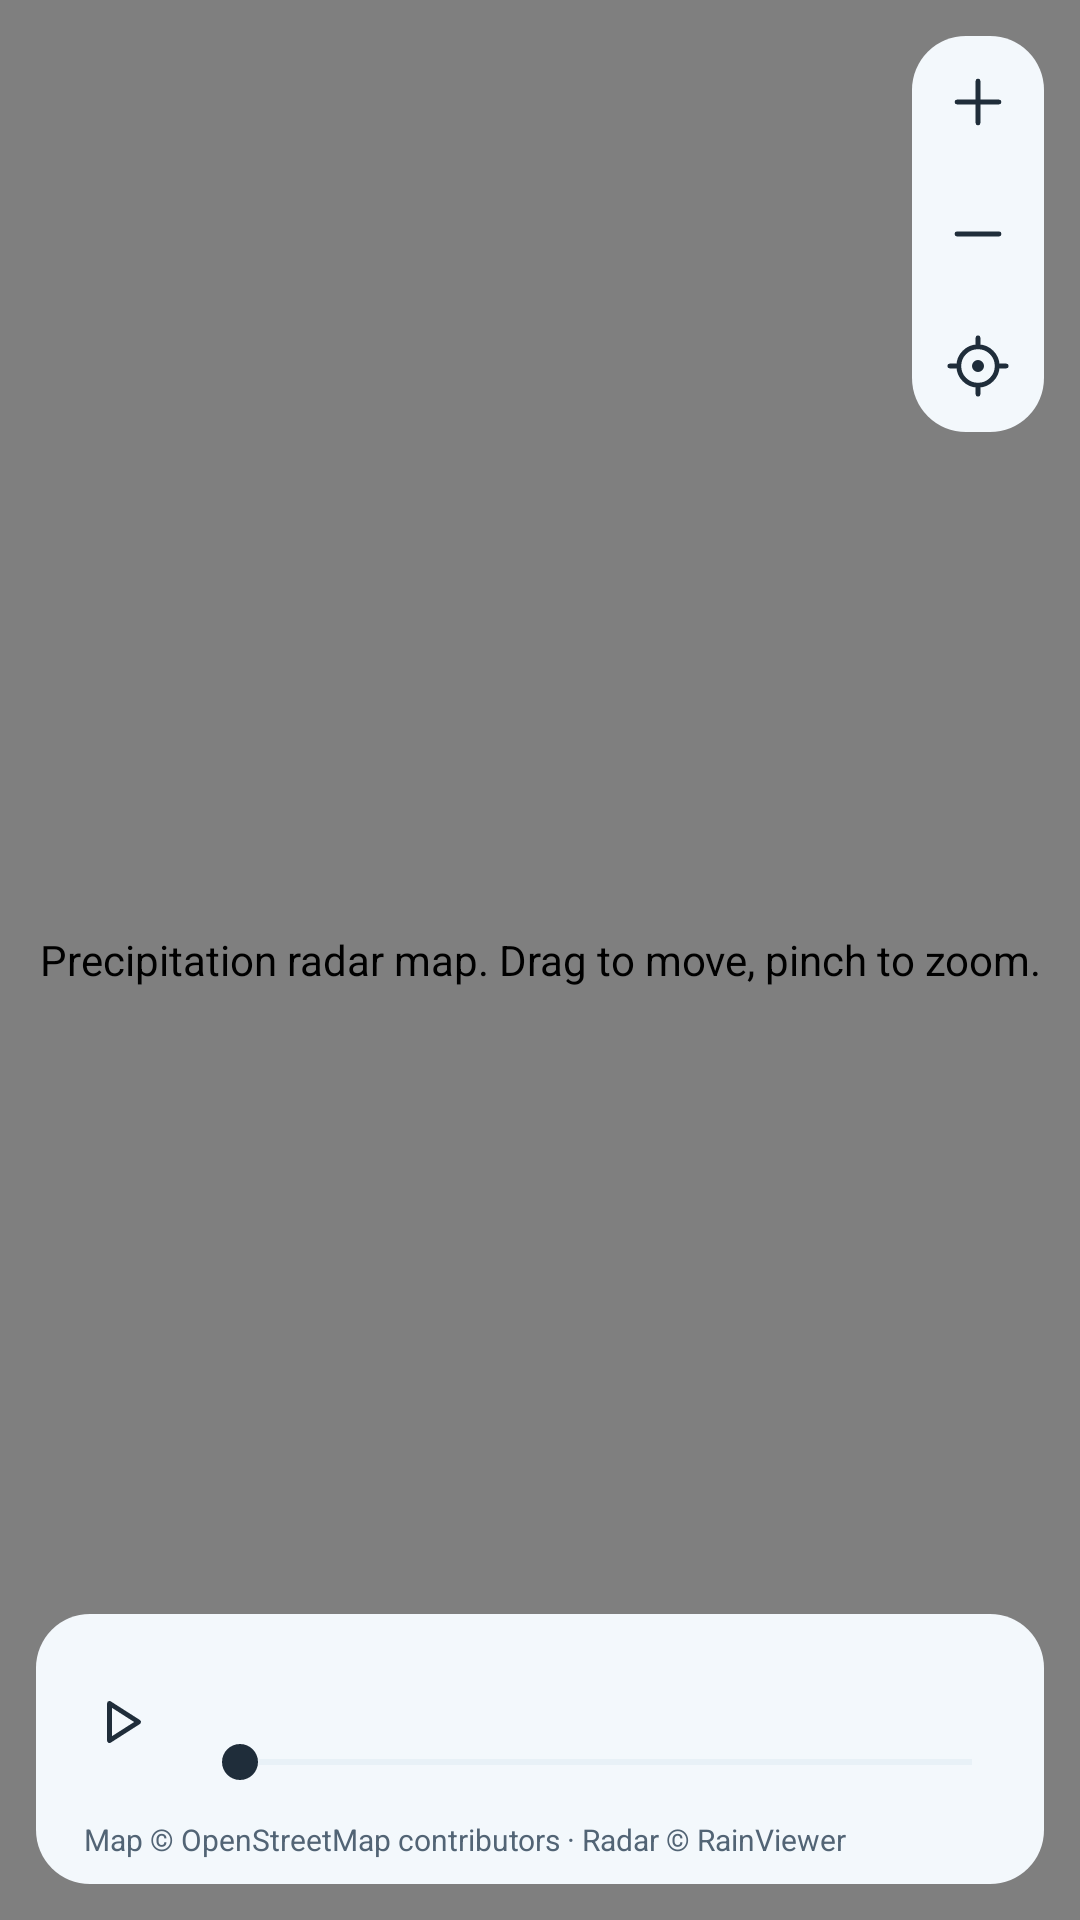

Icon bounding boxes for this 1080px×1920px phone screenshot, format (x1, y1, x2, y2):
Back to city: (912, 300, 1044, 432)
Play: (107, 1701, 141, 1743)
Zoom in: (912, 36, 1044, 168)
